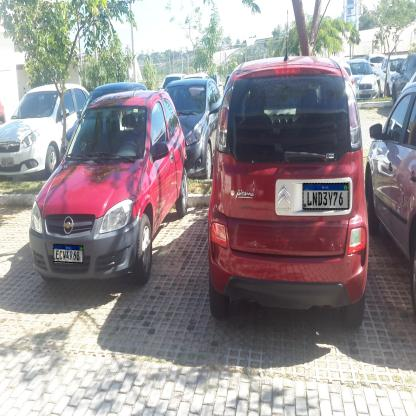PlacaM: (302, 183, 349, 209), (53, 244, 83, 264)
